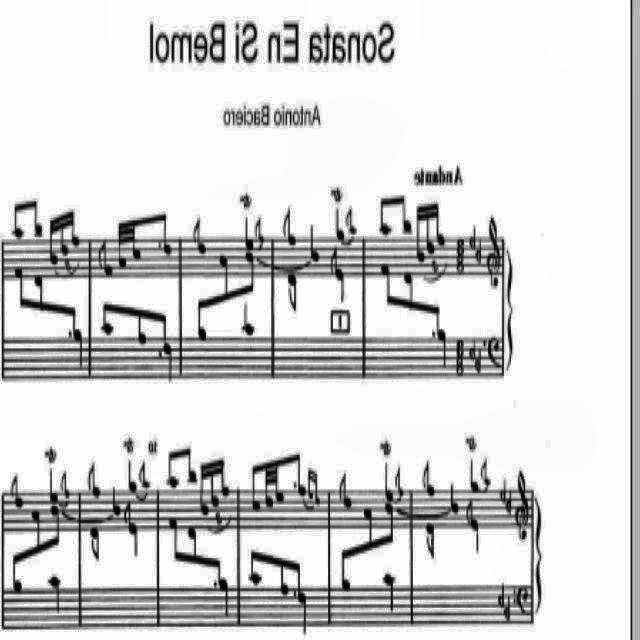Bemol: (468, 224, 476, 252), (476, 237, 482, 266), (505, 595, 511, 621), (476, 348, 482, 372), (497, 584, 503, 608), (469, 336, 475, 359), (500, 481, 506, 503), (506, 491, 512, 513)
Eighth-note: (399, 192, 413, 235), (248, 548, 262, 588), (87, 460, 101, 498), (165, 448, 179, 486), (362, 506, 374, 550), (10, 549, 22, 593), (184, 442, 196, 484), (220, 254, 230, 304), (188, 526, 200, 566), (402, 272, 414, 312), (9, 474, 23, 508), (381, 265, 392, 307), (33, 509, 43, 555), (341, 546, 351, 590), (424, 524, 436, 560), (32, 276, 44, 312), (102, 300, 114, 336), (168, 519, 178, 561), (13, 266, 23, 308), (162, 311, 172, 353), (245, 251, 255, 293), (331, 249, 344, 281), (264, 457, 272, 508), (384, 504, 394, 544), (124, 502, 136, 534), (346, 203, 358, 235), (137, 306, 147, 344), (380, 197, 390, 235), (298, 557, 306, 603), (50, 506, 59, 546), (198, 296, 206, 340), (280, 554, 288, 594), (72, 308, 82, 340), (218, 552, 226, 590), (60, 469, 70, 499), (288, 274, 296, 310), (90, 528, 98, 560)
Quarter-note: (382, 572, 394, 612), (49, 574, 61, 614), (383, 463, 392, 501), (451, 482, 459, 514), (112, 487, 120, 515)
Sixteenth-note: (416, 202, 424, 262), (200, 457, 208, 515), (220, 455, 230, 497), (426, 202, 434, 254), (210, 454, 218, 506), (436, 199, 444, 245), (469, 460, 479, 492)
